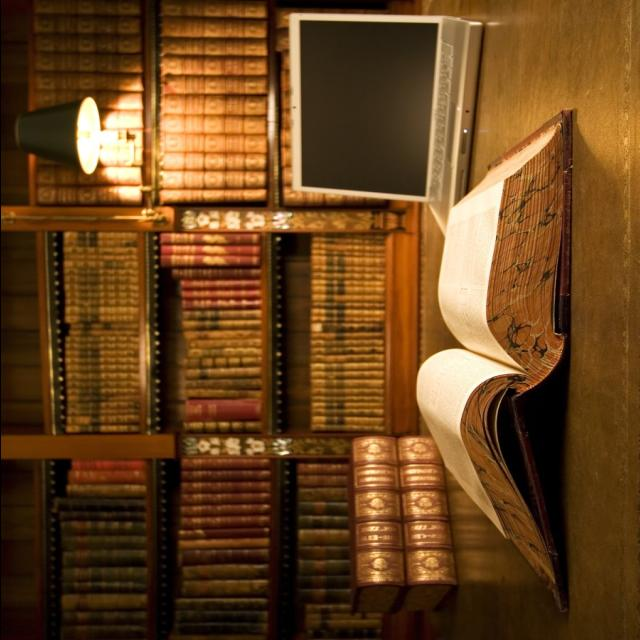book: (391, 120, 593, 606)
